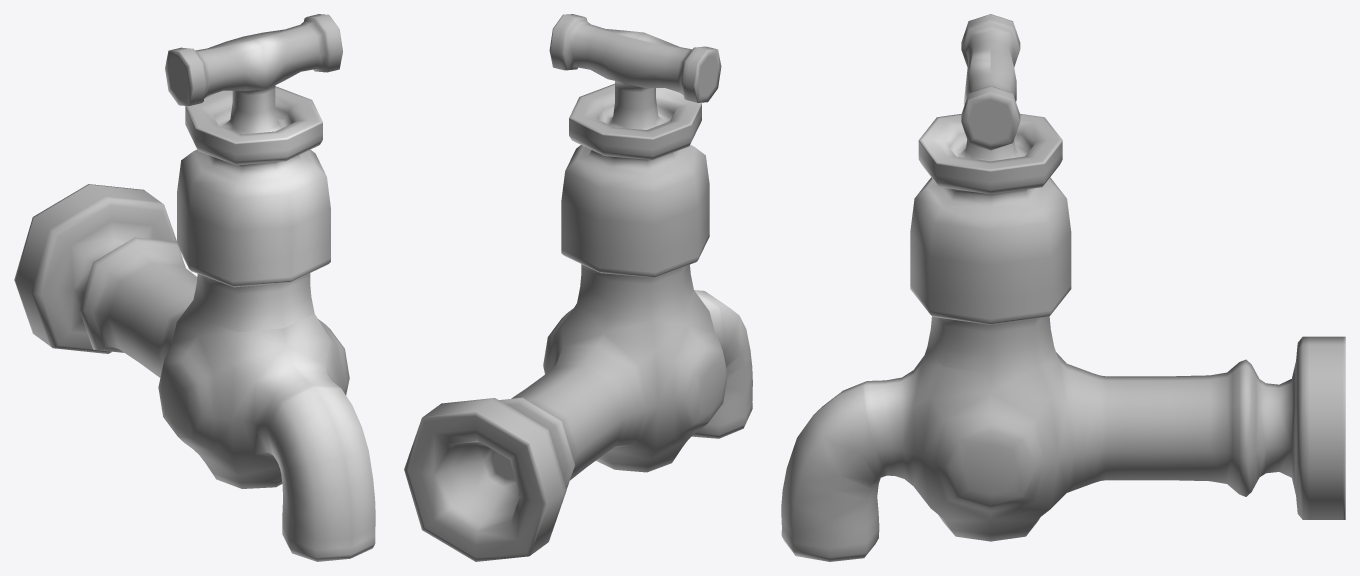
The model's file is water tap.fbx.
3 renders of one model, left to right at view 1: azimuth 30°, elevation 25°; view 2: azimuth 150°, elevation 25°; view 3: azimuth 270°, elevation 25°, orthographic. The views are drawn at different scales.
Parts seen in each view (by area): view 1: pCube4; view 2: pCube4; view 3: pCube4.
Boxes of the visible parts, x1=… form: pCube4: x1=14, y1=14, x2=375, y2=561; pCube4: x1=404, y1=14, x2=752, y2=561; pCube4: x1=781, y1=14, x2=1345, y2=561.
Bounding box in the file's own units: 7.6 × 20.72 × 21.53.
